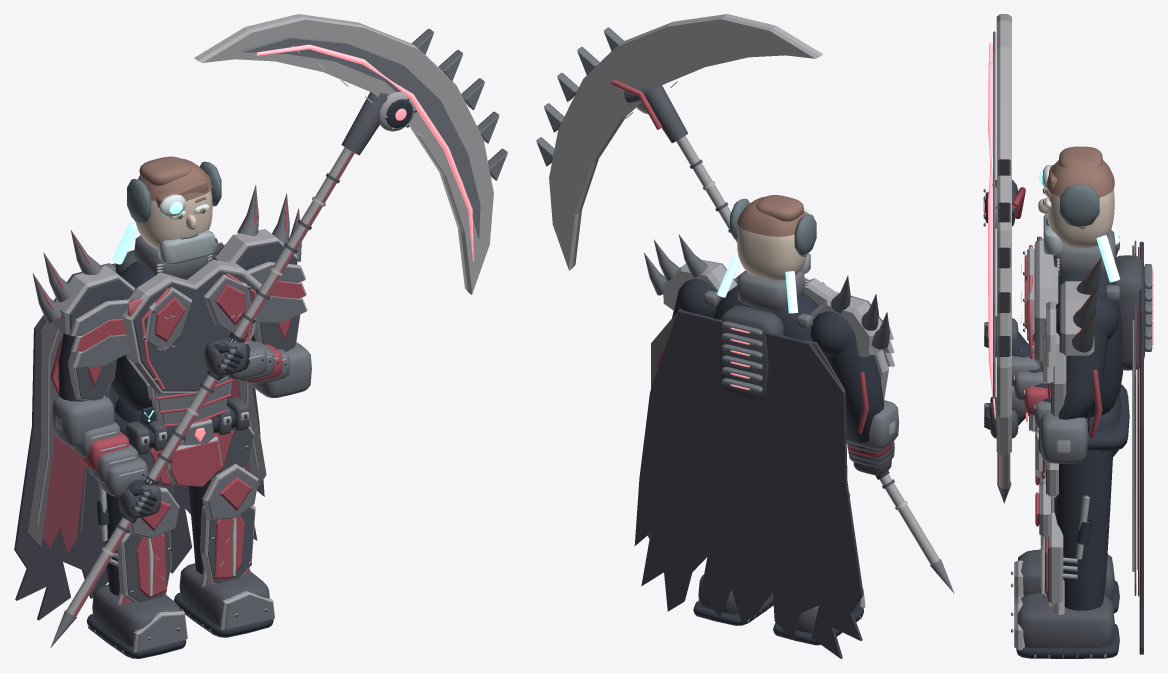
The model's file is james_ti_scythe.glb.
The picture shows the model from 3 angles, left to right: view 1: azimuth 30°, elevation 25°; view 2: azimuth 150°, elevation 25°; view 3: azimuth 270°, elevation 25°; orthographic projection. The views are drawn at different scales.
Parts seen in each view (by area): view 1: Crescent blade forged edge, Torn ceremonial cloak, Cathedral breastplate armour face, Crescent blade dark steel inset, Polearm forged haft, Torn crimson cloak lining -1, Cloak heavy outer fold -1, Cathedral breastplate steel bevel, L boot foundation, R boot foundation, L elbow shield, Brown / Face (+46 smaller); view 2: Torn ceremonial cloak, Crescent blade forged edge, L arm flex undersuit, Spinal reactor housing, Brown / Face, Polearm forged haft, Armoured gorget, Pressure undersuit torso, L pauldron crest steel bevel, Scythe reinforced neck, L shoulder swivel, Brown / Hair cap (+7 smaller); view 3: R articulated leg, Crescent blade forged edge, R boot foundation, R arm flex undersuit, Spinal reactor housing, Pressure undersuit torso, R elbow shield, Brown / Face, Torn ceremonial cloak, Cathedral breastplate steel bevel, Crescent blade reactor channel, Brown / Hair cap (+42 smaller).
Part boxes in pixels (x1,y1,x2,y2): Crescent blade forged edge: (194, 14, 493, 294); Torn ceremonial cloak: (14, 238, 264, 620); Cathedral breastplate armour face: (133, 270, 258, 391); Crescent blade dark steel inset: (240, 37, 480, 238); Polearm forged haft: (66, 147, 354, 616); Torn crimson cloak lining -1: (42, 435, 84, 554); Cloak heavy outer fold -1: (27, 321, 63, 547); Cathedral breastplate steel bevel: (122, 259, 261, 394); L boot foundation: (92, 584, 181, 647); R boot foundation: (179, 563, 269, 625); L elbow shield: (52, 395, 114, 447); Brown / Face: (136, 190, 212, 249); Torn ceremonial cloak: (634, 309, 863, 658); Crescent blade forged edge: (549, 14, 822, 270); L arm flex undersuit: (825, 331, 883, 468); Spinal reactor housing: (720, 305, 783, 398); Brown / Face: (737, 226, 806, 280); Polearm forged haft: (676, 136, 939, 564); Armoured gorget: (737, 270, 805, 311); Pressure undersuit torso: (714, 287, 826, 358); L pauldron crest steel bevel: (811, 292, 882, 357); Scythe reinforced neck: (624, 85, 688, 142); L shoulder swivel: (810, 311, 852, 356); Brown / Hair cap: (737, 196, 804, 236); R articulated leg: (1054, 450, 1112, 610); Crescent blade forged edge: (996, 14, 1011, 455); R boot foundation: (1017, 593, 1114, 648); R arm flex undersuit: (1012, 322, 1108, 434); Spinal reactor housing: (1114, 255, 1145, 370); Pressure undersuit torso: (1058, 271, 1122, 416); R elbow shield: (1039, 412, 1088, 463); Brown / Face: (1047, 189, 1114, 248); Torn ceremonial cloak: (1139, 241, 1143, 654); Cathedral breastplate steel bevel: (1035, 238, 1058, 368); Crescent blade reactor channel: (988, 43, 995, 418); Brown / Hair cap: (1047, 160, 1114, 197).
Size of the model in its own units: 4.38 by 5.65 by 1.4.
